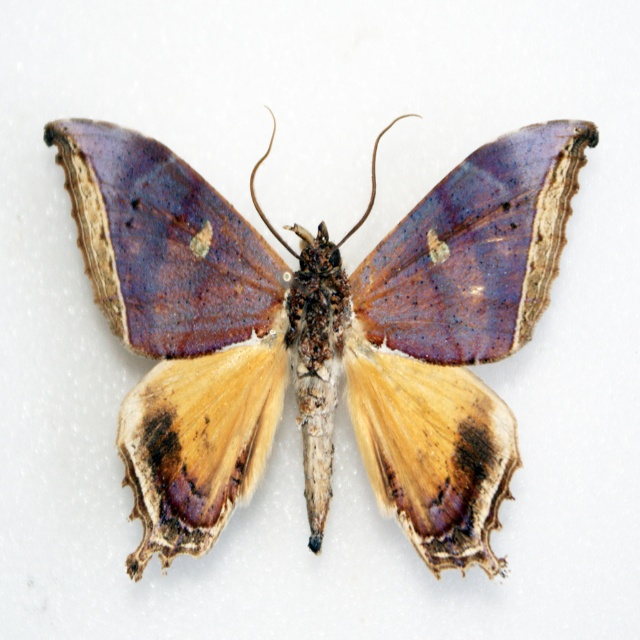Butterfly: (70, 106, 588, 599)
